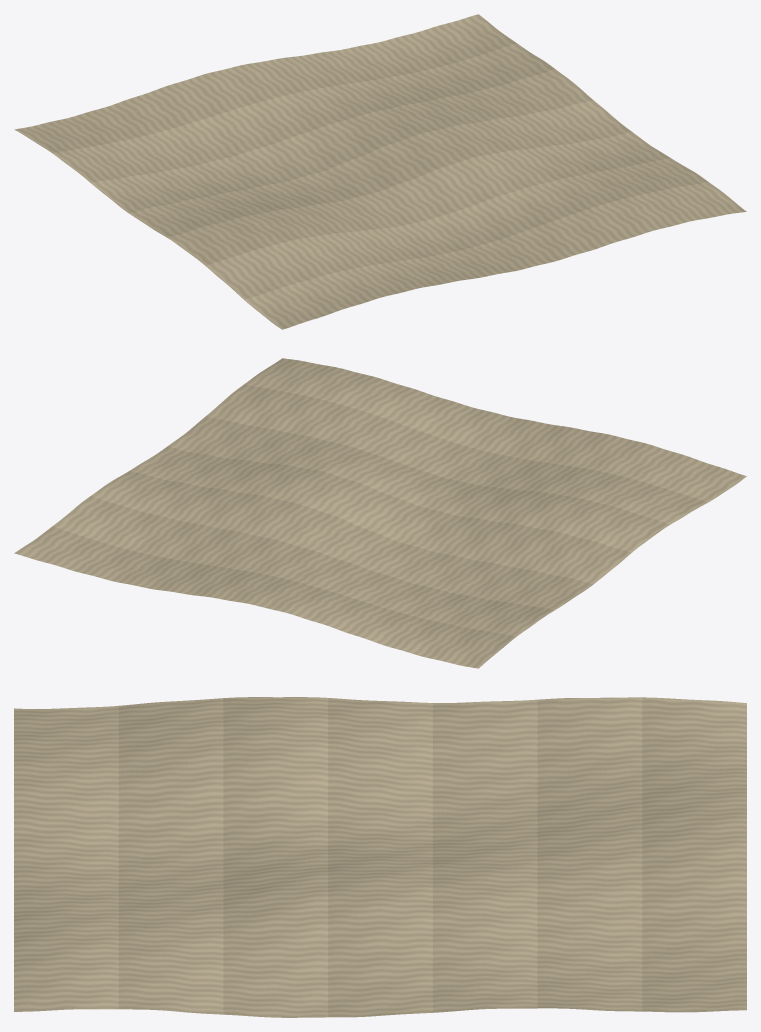
The model's file is terrain.obj.
3 renders of one model, top to bottom at view 1: azimuth 30°, elevation 25°; view 2: azimuth 150°, elevation 25°; view 3: azimuth 270°, elevation 25°, orthographic. The views are drawn at different scales.
Visible parts, largest first — view 1: scene_mesh; view 2: scene_mesh; view 3: scene_mesh.
Boxes of the visible parts, x1,y1,x2,y2 form: scene_mesh: (14, 14, 746, 329); scene_mesh: (14, 358, 746, 668); scene_mesh: (14, 697, 746, 1017).
Bounding box in the file's own units: 92 × 3.14 × 92.
Materials: 1 (1 with a texture image).
